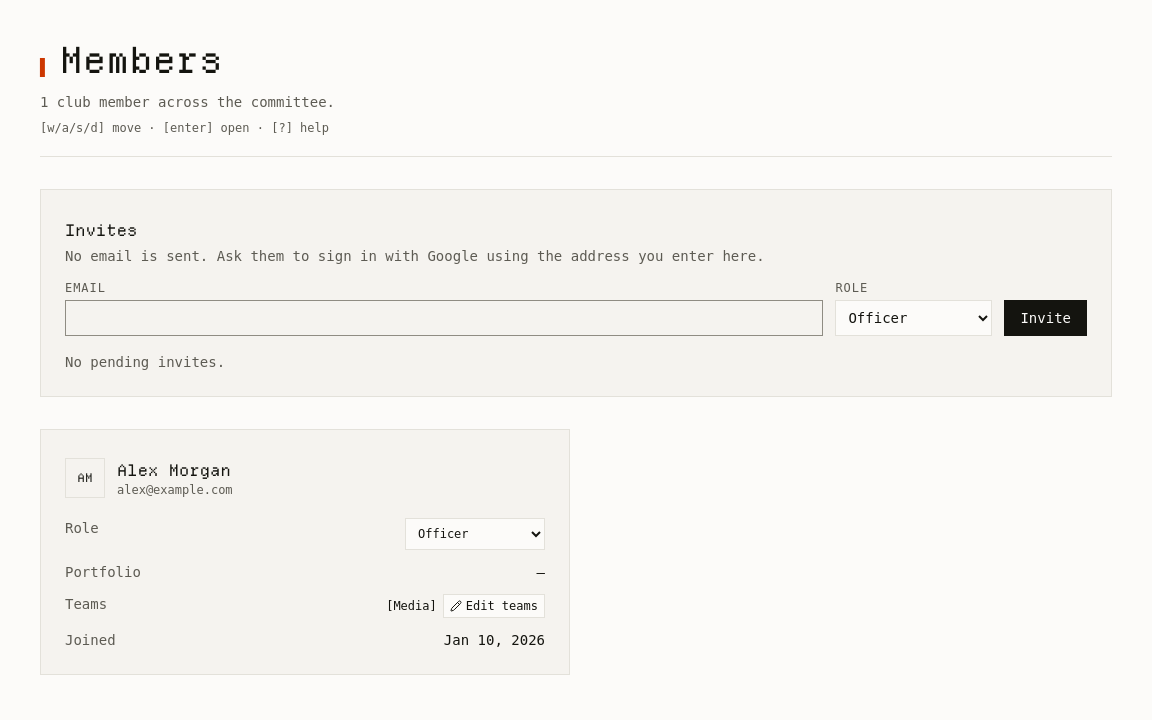
MembersPage › dismisses the role change modal back to the select that raised it
Expected: the heading "Alex Morgan" is shown, [117,458,233,482]
Select "Director" in the dropdown named "role for alex morgan" at point(475, 534), box [405,518,545,550]
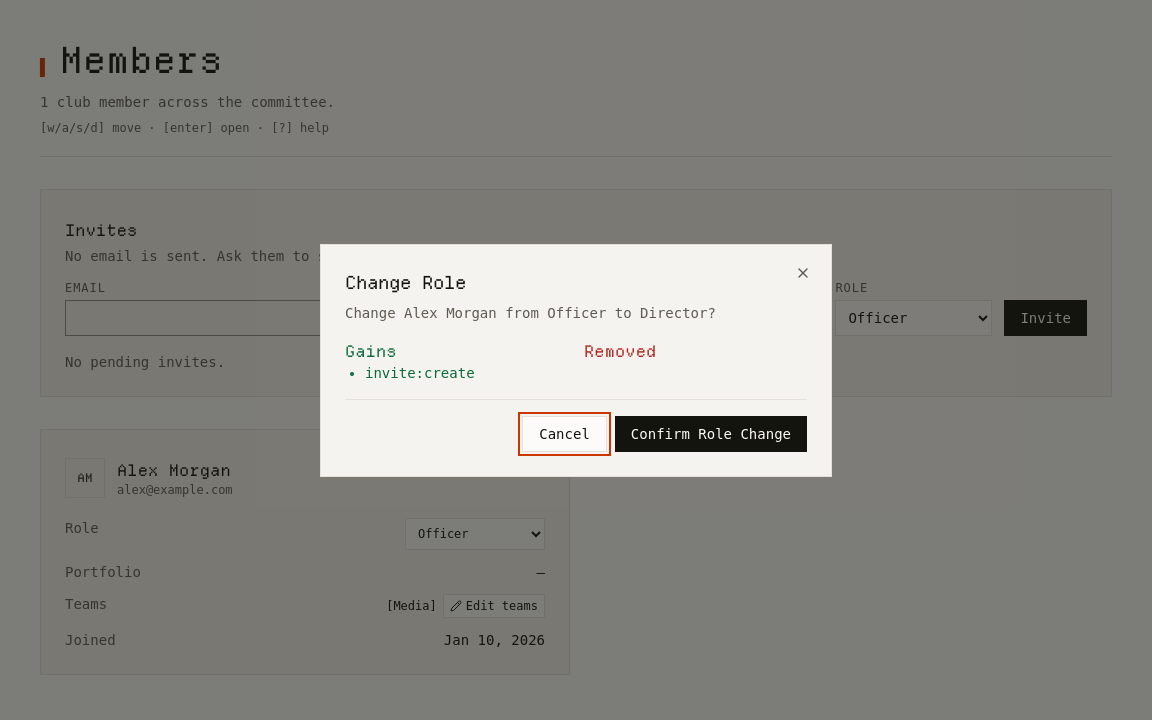
Expected: the list item "invite:create" is shown, [365,364,475,380]
Click the button "Cancel" at point(565, 434), box [522,416,607,452]
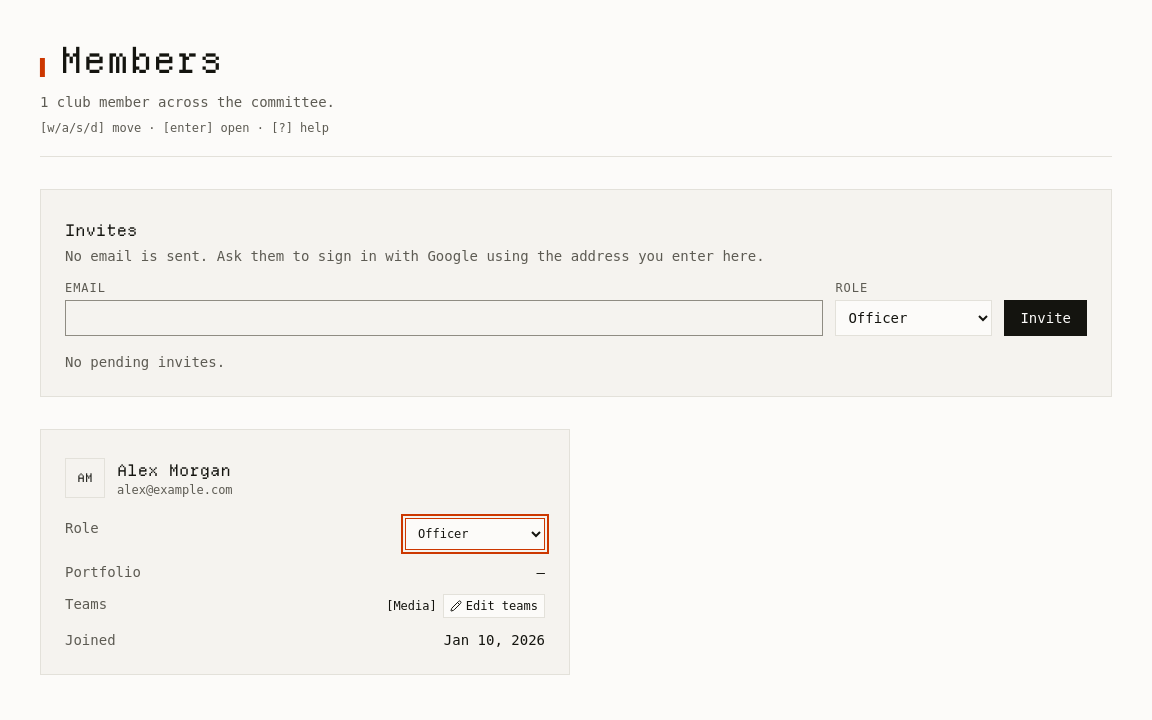
Expected: the dialog is gone
